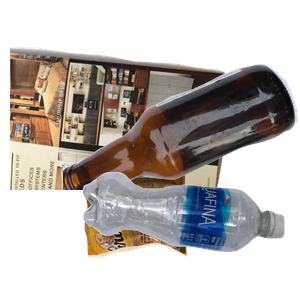glass: (63, 62, 300, 242)
paper: (10, 44, 232, 224)
plastic: (80, 169, 300, 300)
trash: (81, 168, 261, 300)
